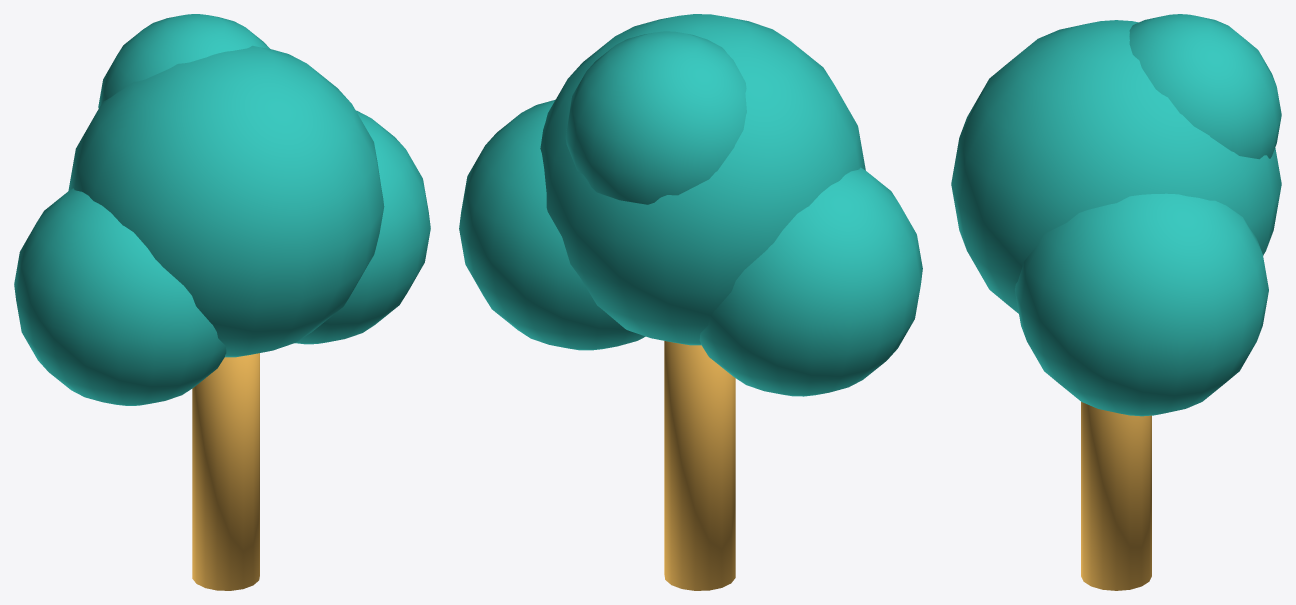
File: tree-lite.glb
3 views of the same model, side by side, from view 1: azimuth 30°, elevation 25°; view 2: azimuth 150°, elevation 25°; view 3: azimuth 270°, elevation 25° (orthographic). The views are drawn at different scales.
Parts seen in each view (by area): view 1: Trunk; view 2: Trunk; view 3: Trunk.
Boxes of the visible parts, x1=… form: Trunk: x1=14, y1=14, x2=430, y2=590; Trunk: x1=459, y1=14, x2=922, y2=590; Trunk: x1=951, y1=14, x2=1281, y2=590.
Bounding box in the file's own units: 1.88 × 2.4 × 1.3.
